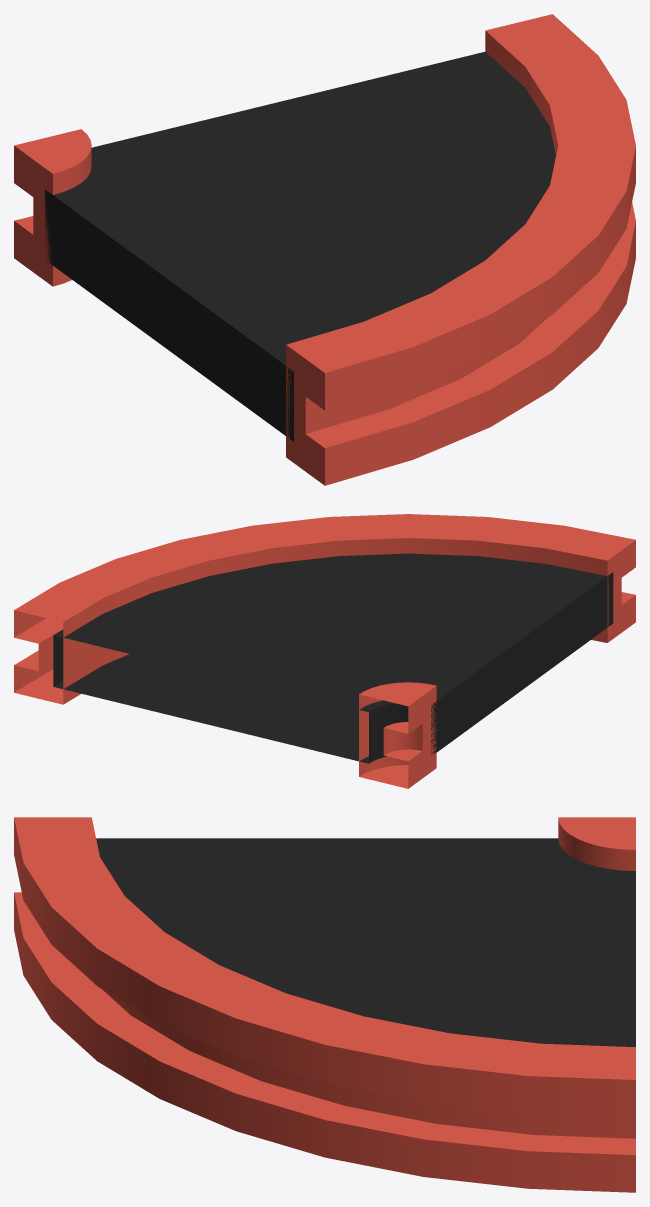
File: Conveyer_ 90_Final.fbx
3 views of the same model, one above another, from view 1: azimuth 30°, elevation 25°; view 2: azimuth 150°, elevation 25°; view 3: azimuth 270°, elevation 25° (orthographic). The views are drawn at different scales.
Visible parts, largest first — view 1: Conveyer_90; view 2: Conveyer_90; view 3: Conveyer_90.
Part boxes in pixels (x1,y1,x2,y2): Conveyer_90: (14,14,635,485); Conveyer_90: (14,514,635,788); Conveyer_90: (14,817,635,1192).
Size of the model in its own units: 4 by 0.8 by 4.
